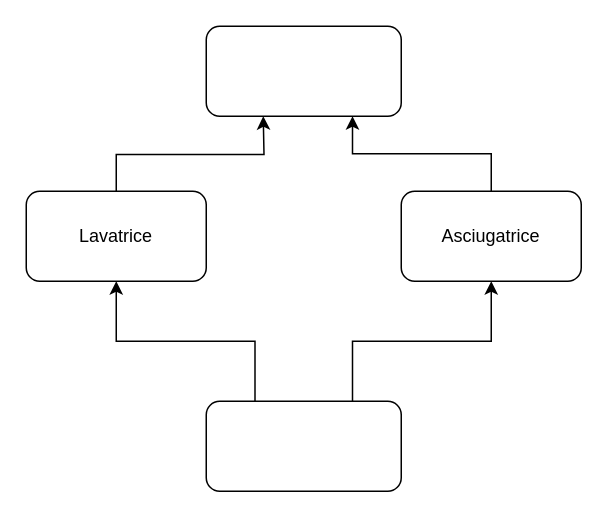
Some shapes in this 608 by 518 pixel diagram are drawn without their labels. Here are the shapes that lost their labels. From the top down, the centre of each, then its label:
At (303,70): "ElettrodomesticiBucato".
At (303,445): "Lavasciuga".
